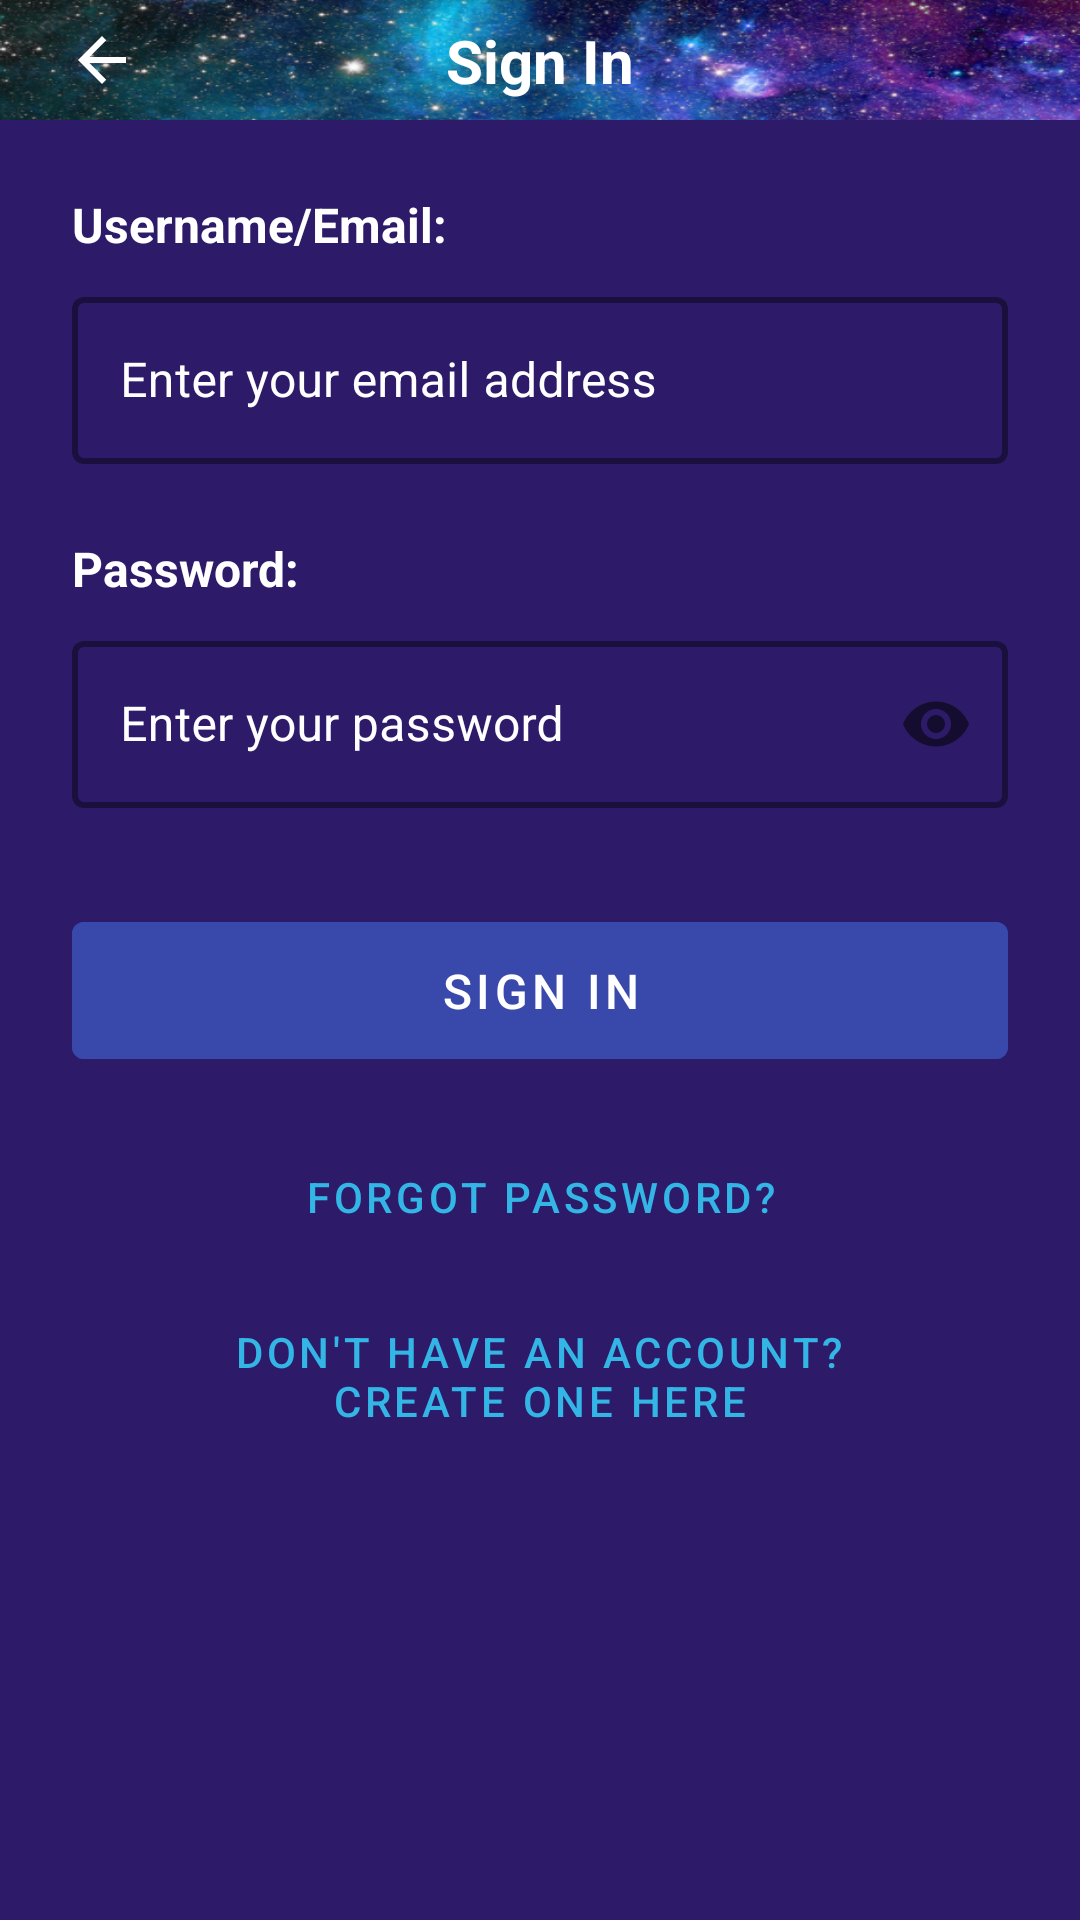

Named icons in this screenshot (1080px x 1920px) and their bounding boxes, (x1, y1, x2, y2):
Back: (48, 6, 156, 114)
